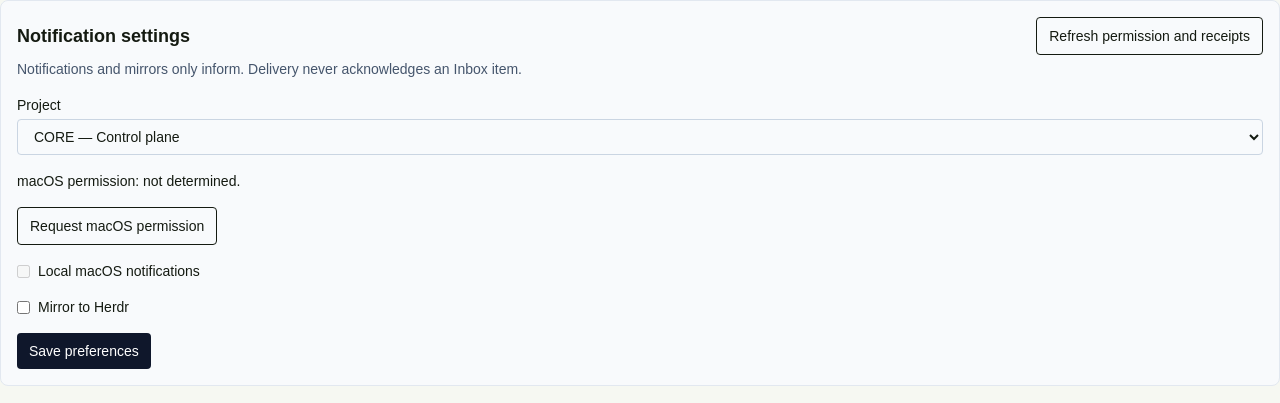
Scenario: notification-settings › reads a later native grant without treating the permission request as a grant
This screenshot has width=1280, height=403.
Click the button with test id "notification-refresh".
click(1150, 36)  # box [1036,17,1263,55]
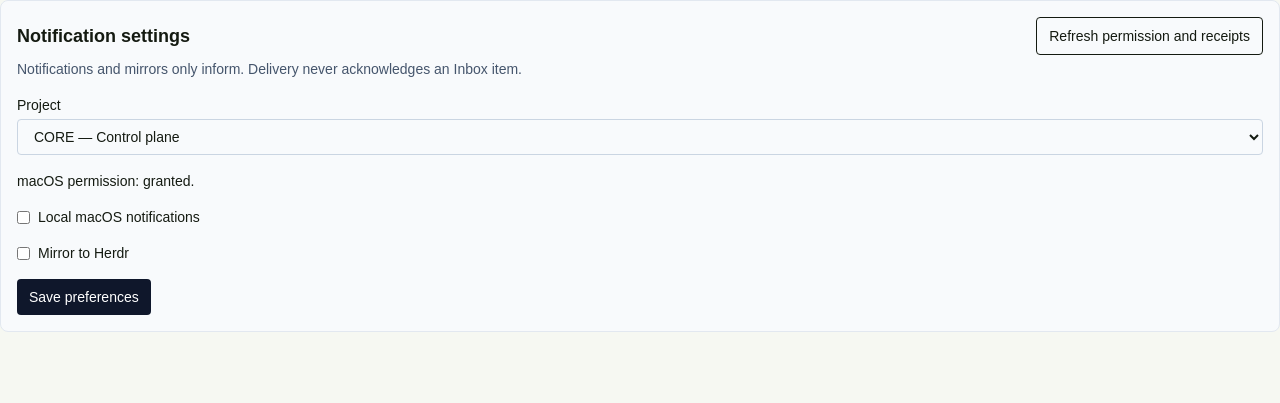
Expected: the checkbox with test id "notification-local" is enabled, [17,210,30,224]
Expected: the text with test id "notification-permission" shows "granted", [17,173,194,189]
